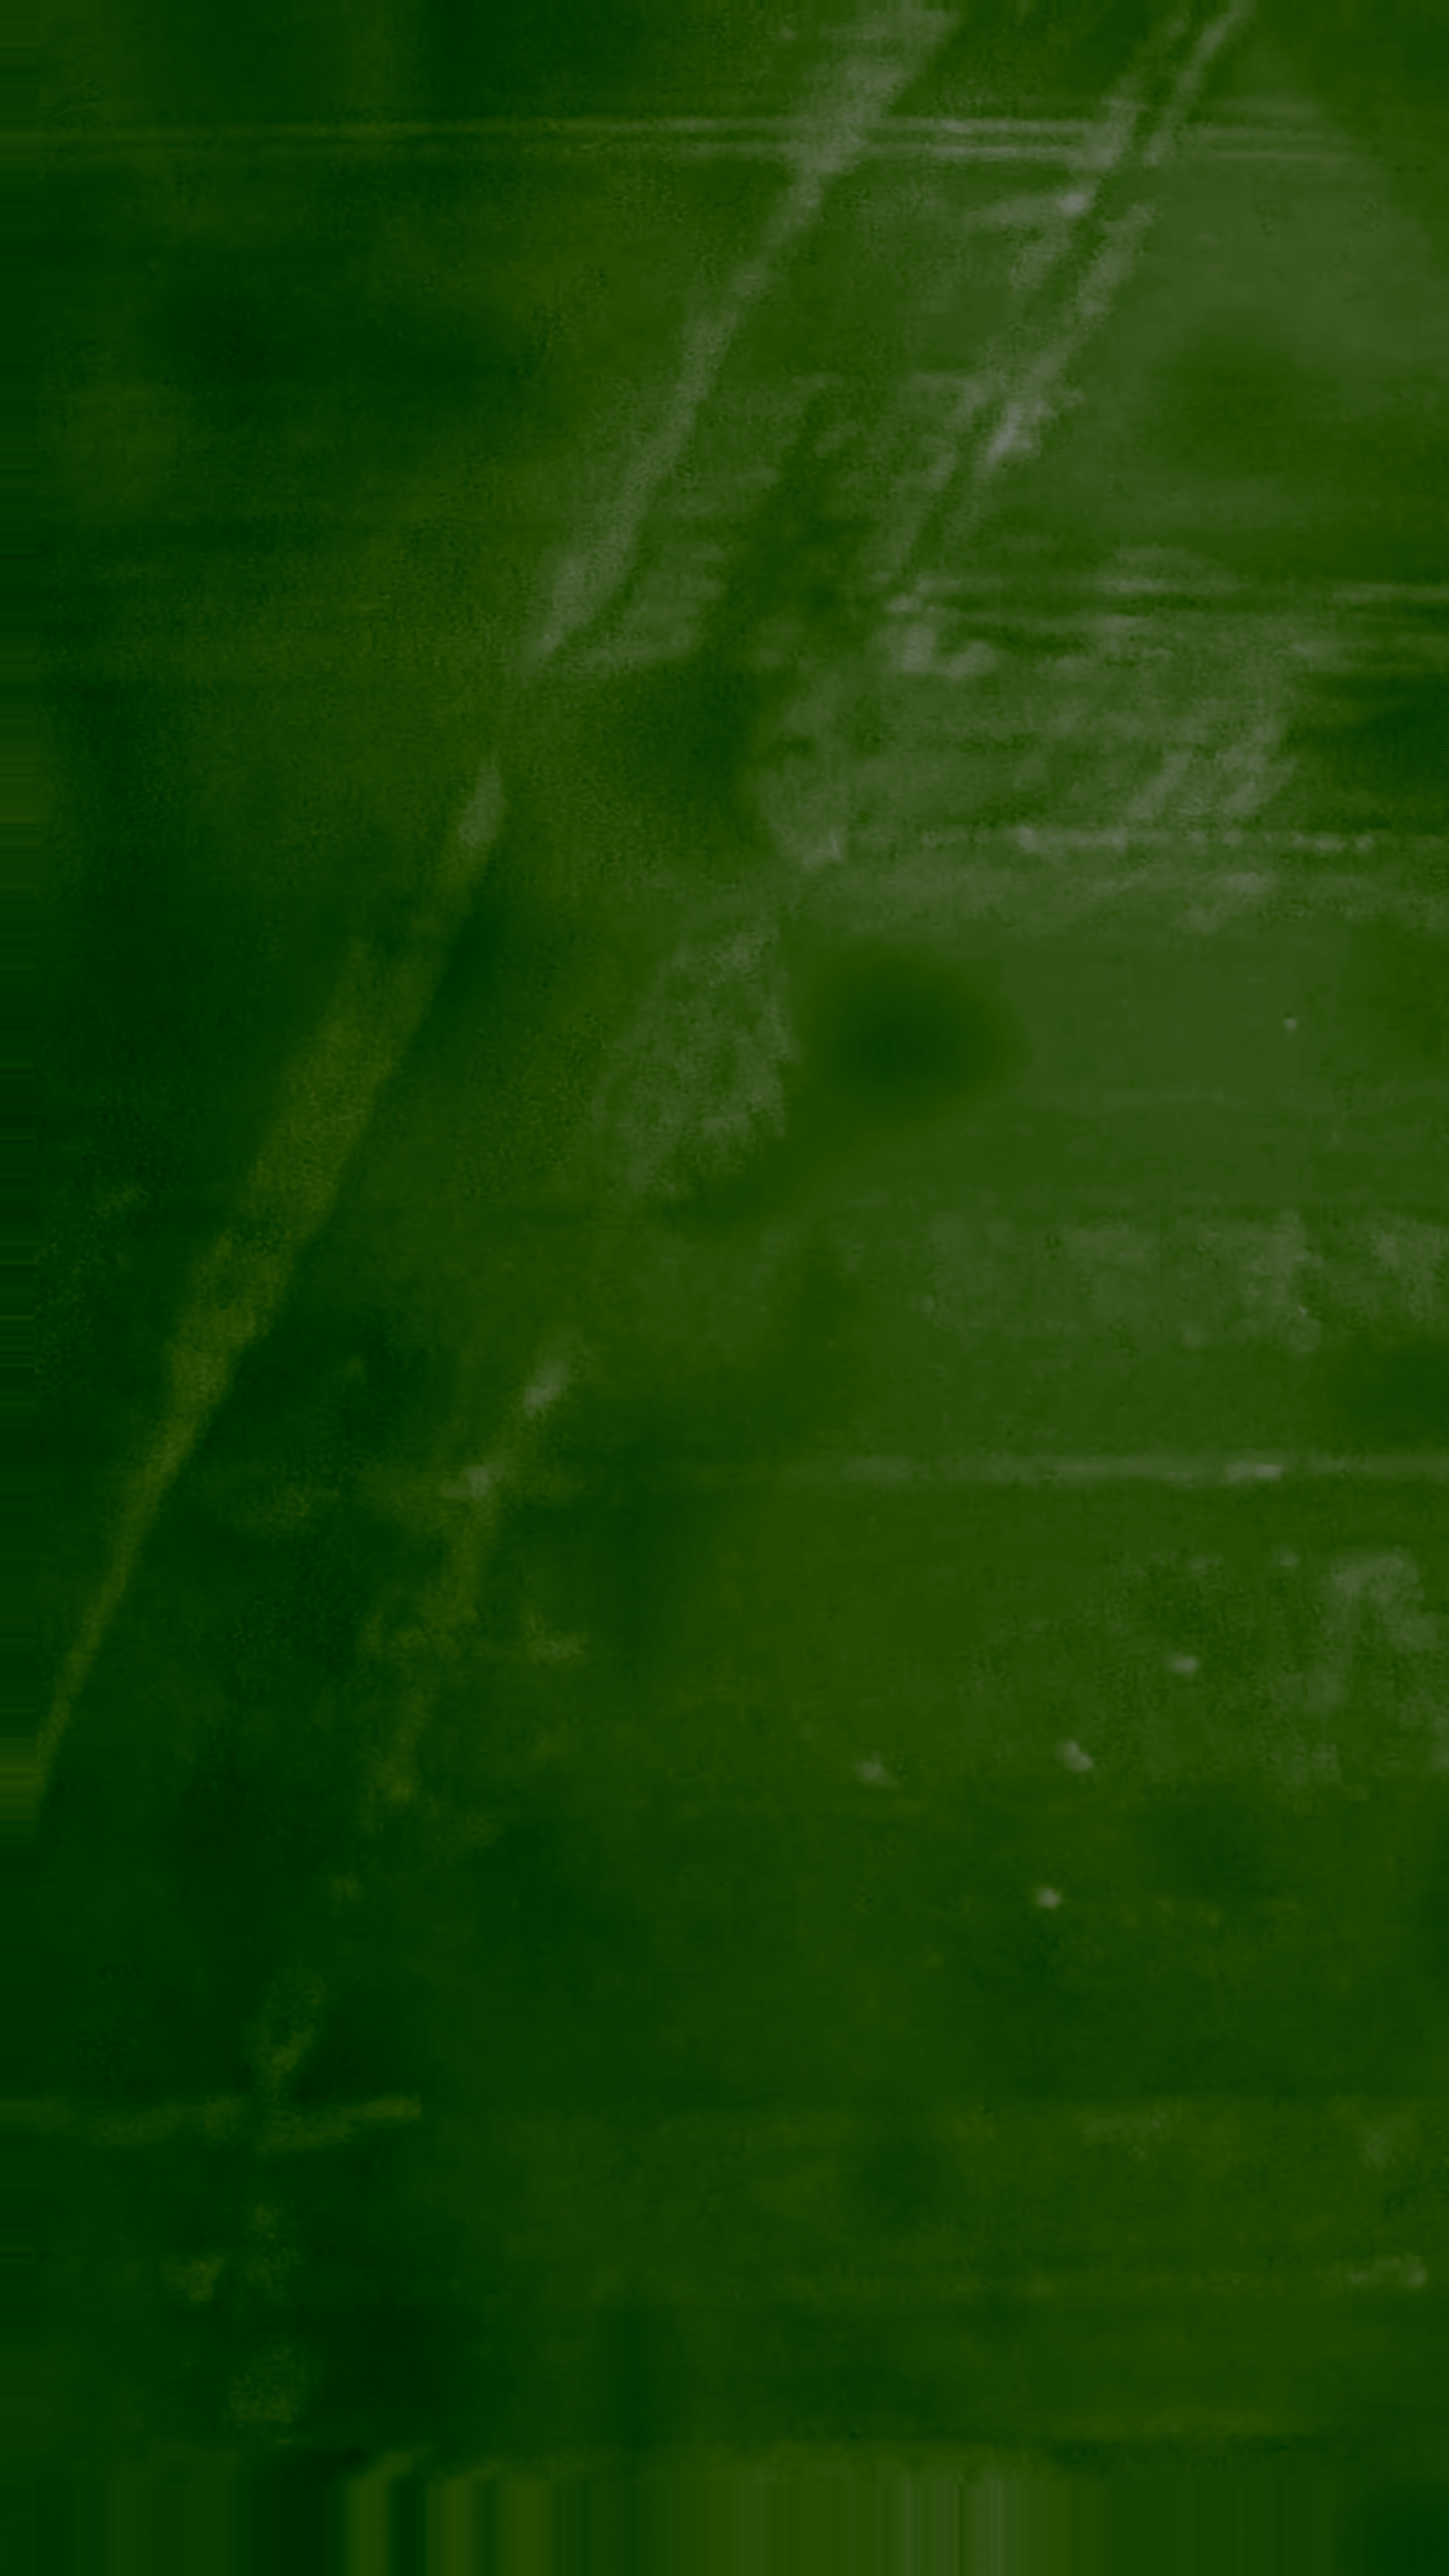splice_vulcanized: (32, 7, 1242, 2484)
